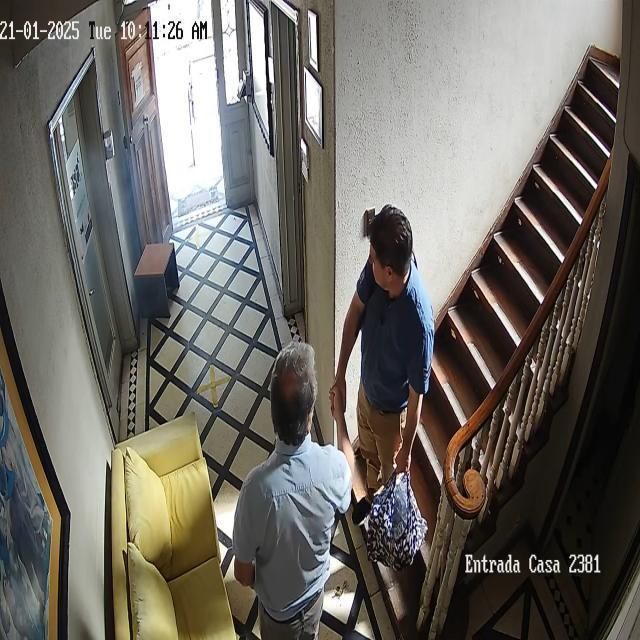fire: (76, 130, 176, 252)
